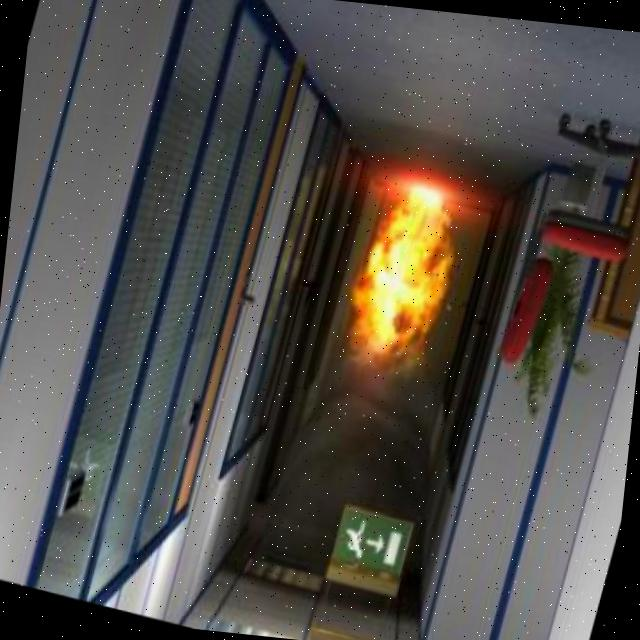fire: (330, 168, 483, 396)
